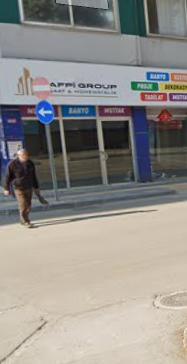turnleft: (34, 99, 58, 127)
